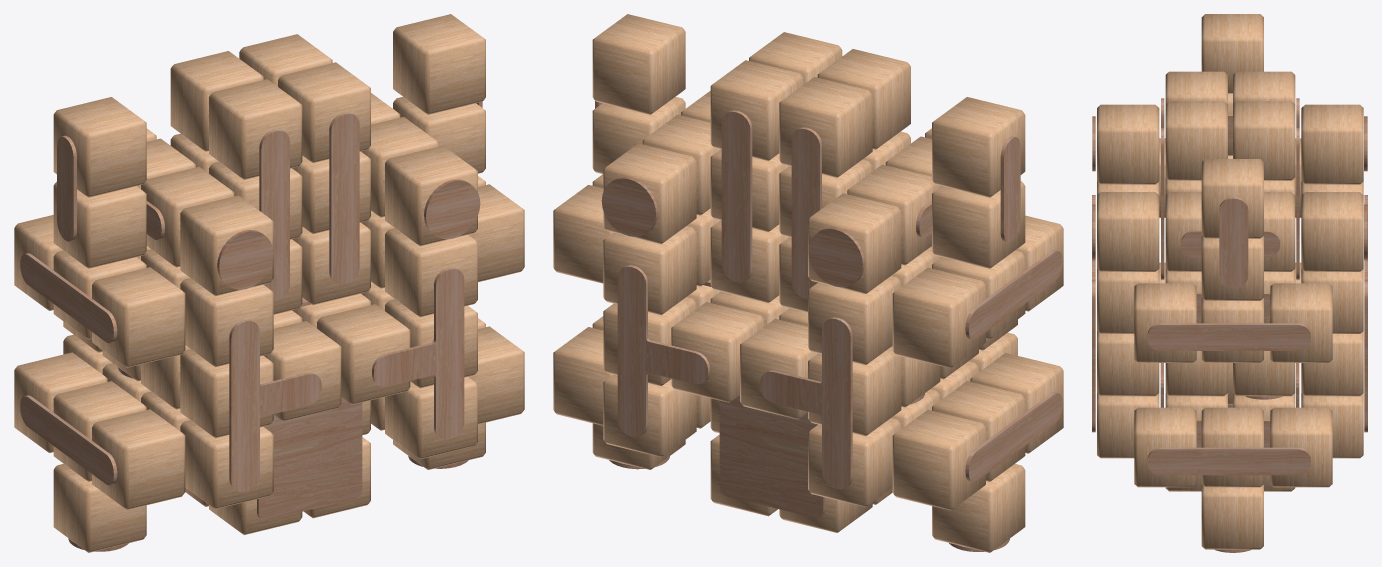
File: level_73.fbx
The picture shows the model from 3 angles, left to right: view 1: azimuth 30°, elevation 25°; view 2: azimuth 150°, elevation 25°; view 3: azimuth 270°, elevation 25°; orthographic projection. The views are drawn at different scales.
Parts seen in each view (by area): view 1: obj_obs_square.001, Cube.136, obj_obs_T.004, obj_obs_T.003, Cube.007, Cube.008, Cube.025, Cube.084, Cube.011, Cube.014, Cube.004, Cube.036 (+43 smaller); view 2: obj_obs_square.002, Cube.136, Cube.028, Cube.010, obj_obs_T.002, obj_obs_T.001, Cube.025, Cube.190, Cube.011, Cube.113, Cube.142, Cube.122 (+43 smaller); view 3: Cube.074, Cube.182, Cube.128, Cube.020, obj_obs_Y.009, Cube.036, obj_obs_Y.008, Cube.142, Cube.155, Cube.119, Cube.151, Cube.136 (+35 smaller).
Boxes of the visible parts, left/top/right/bottom form: obj_obs_square.001: left=257, top=397, right=362, bottom=520; Cube.136: left=393, top=14, right=485, bottom=114; obj_obs_T.004: left=372, top=267, right=464, bottom=439; obj_obs_T.003: left=229, top=319, right=321, bottom=491; Cube.007: left=92, top=267, right=185, bottom=367; Cube.008: left=92, top=409, right=185, bottom=509; Cube.025: left=53, top=97, right=146, bottom=197; Cube.084: left=209, top=79, right=302, bottom=179; Cube.011: left=53, top=181, right=146, bottom=268; Cube.014: left=317, top=304, right=410, bottom=404; Cube.004: left=385, top=228, right=477, bottom=317; Cube.036: left=278, top=62, right=370, bottom=162; obj_obs_square.002: left=719, top=395, right=824, bottom=517; Cube.136: left=592, top=14, right=685, bottom=114; Cube.028: left=892, top=410, right=985, bottom=510; Cube.010: left=892, top=267, right=985, bottom=368; obj_obs_T.002: left=617, top=265, right=709, bottom=437; obj_obs_T.001: left=760, top=317, right=852, bottom=489; Cube.025: left=932, top=97, right=1025, bottom=197; Cube.190: left=779, top=77, right=872, bottom=177; Cube.011: left=932, top=181, right=1025, bottom=268; Cube.113: left=603, top=226, right=696, bottom=315; Cube.142: left=710, top=60, right=803, bottom=160; Cube.122: left=671, top=302, right=764, bottom=402; Cube.074: left=1097, top=104, right=1159, bottom=184; Cube.182: left=1301, top=104, right=1363, bottom=184; Cube.128: left=1301, top=192, right=1363, bottom=271; Cube.020: left=1097, top=192, right=1159, bottom=271; obj_obs_Y.009: left=1147, top=447, right=1310, bottom=475; Cube.036: left=1165, top=101, right=1227, bottom=180; obj_obs_Y.008: left=1147, top=323, right=1310, bottom=350; Cube.142: left=1233, top=101, right=1295, bottom=180; Cube.155: left=1270, top=407, right=1332, bottom=487; Cube.119: left=1270, top=283, right=1332, bottom=362; Cube.151: left=1201, top=484, right=1263, bottom=549; Cube.136: left=1201, top=159, right=1263, bottom=238.
Size of the model in its own units: 13.31 by 13.12 by 8.84.
